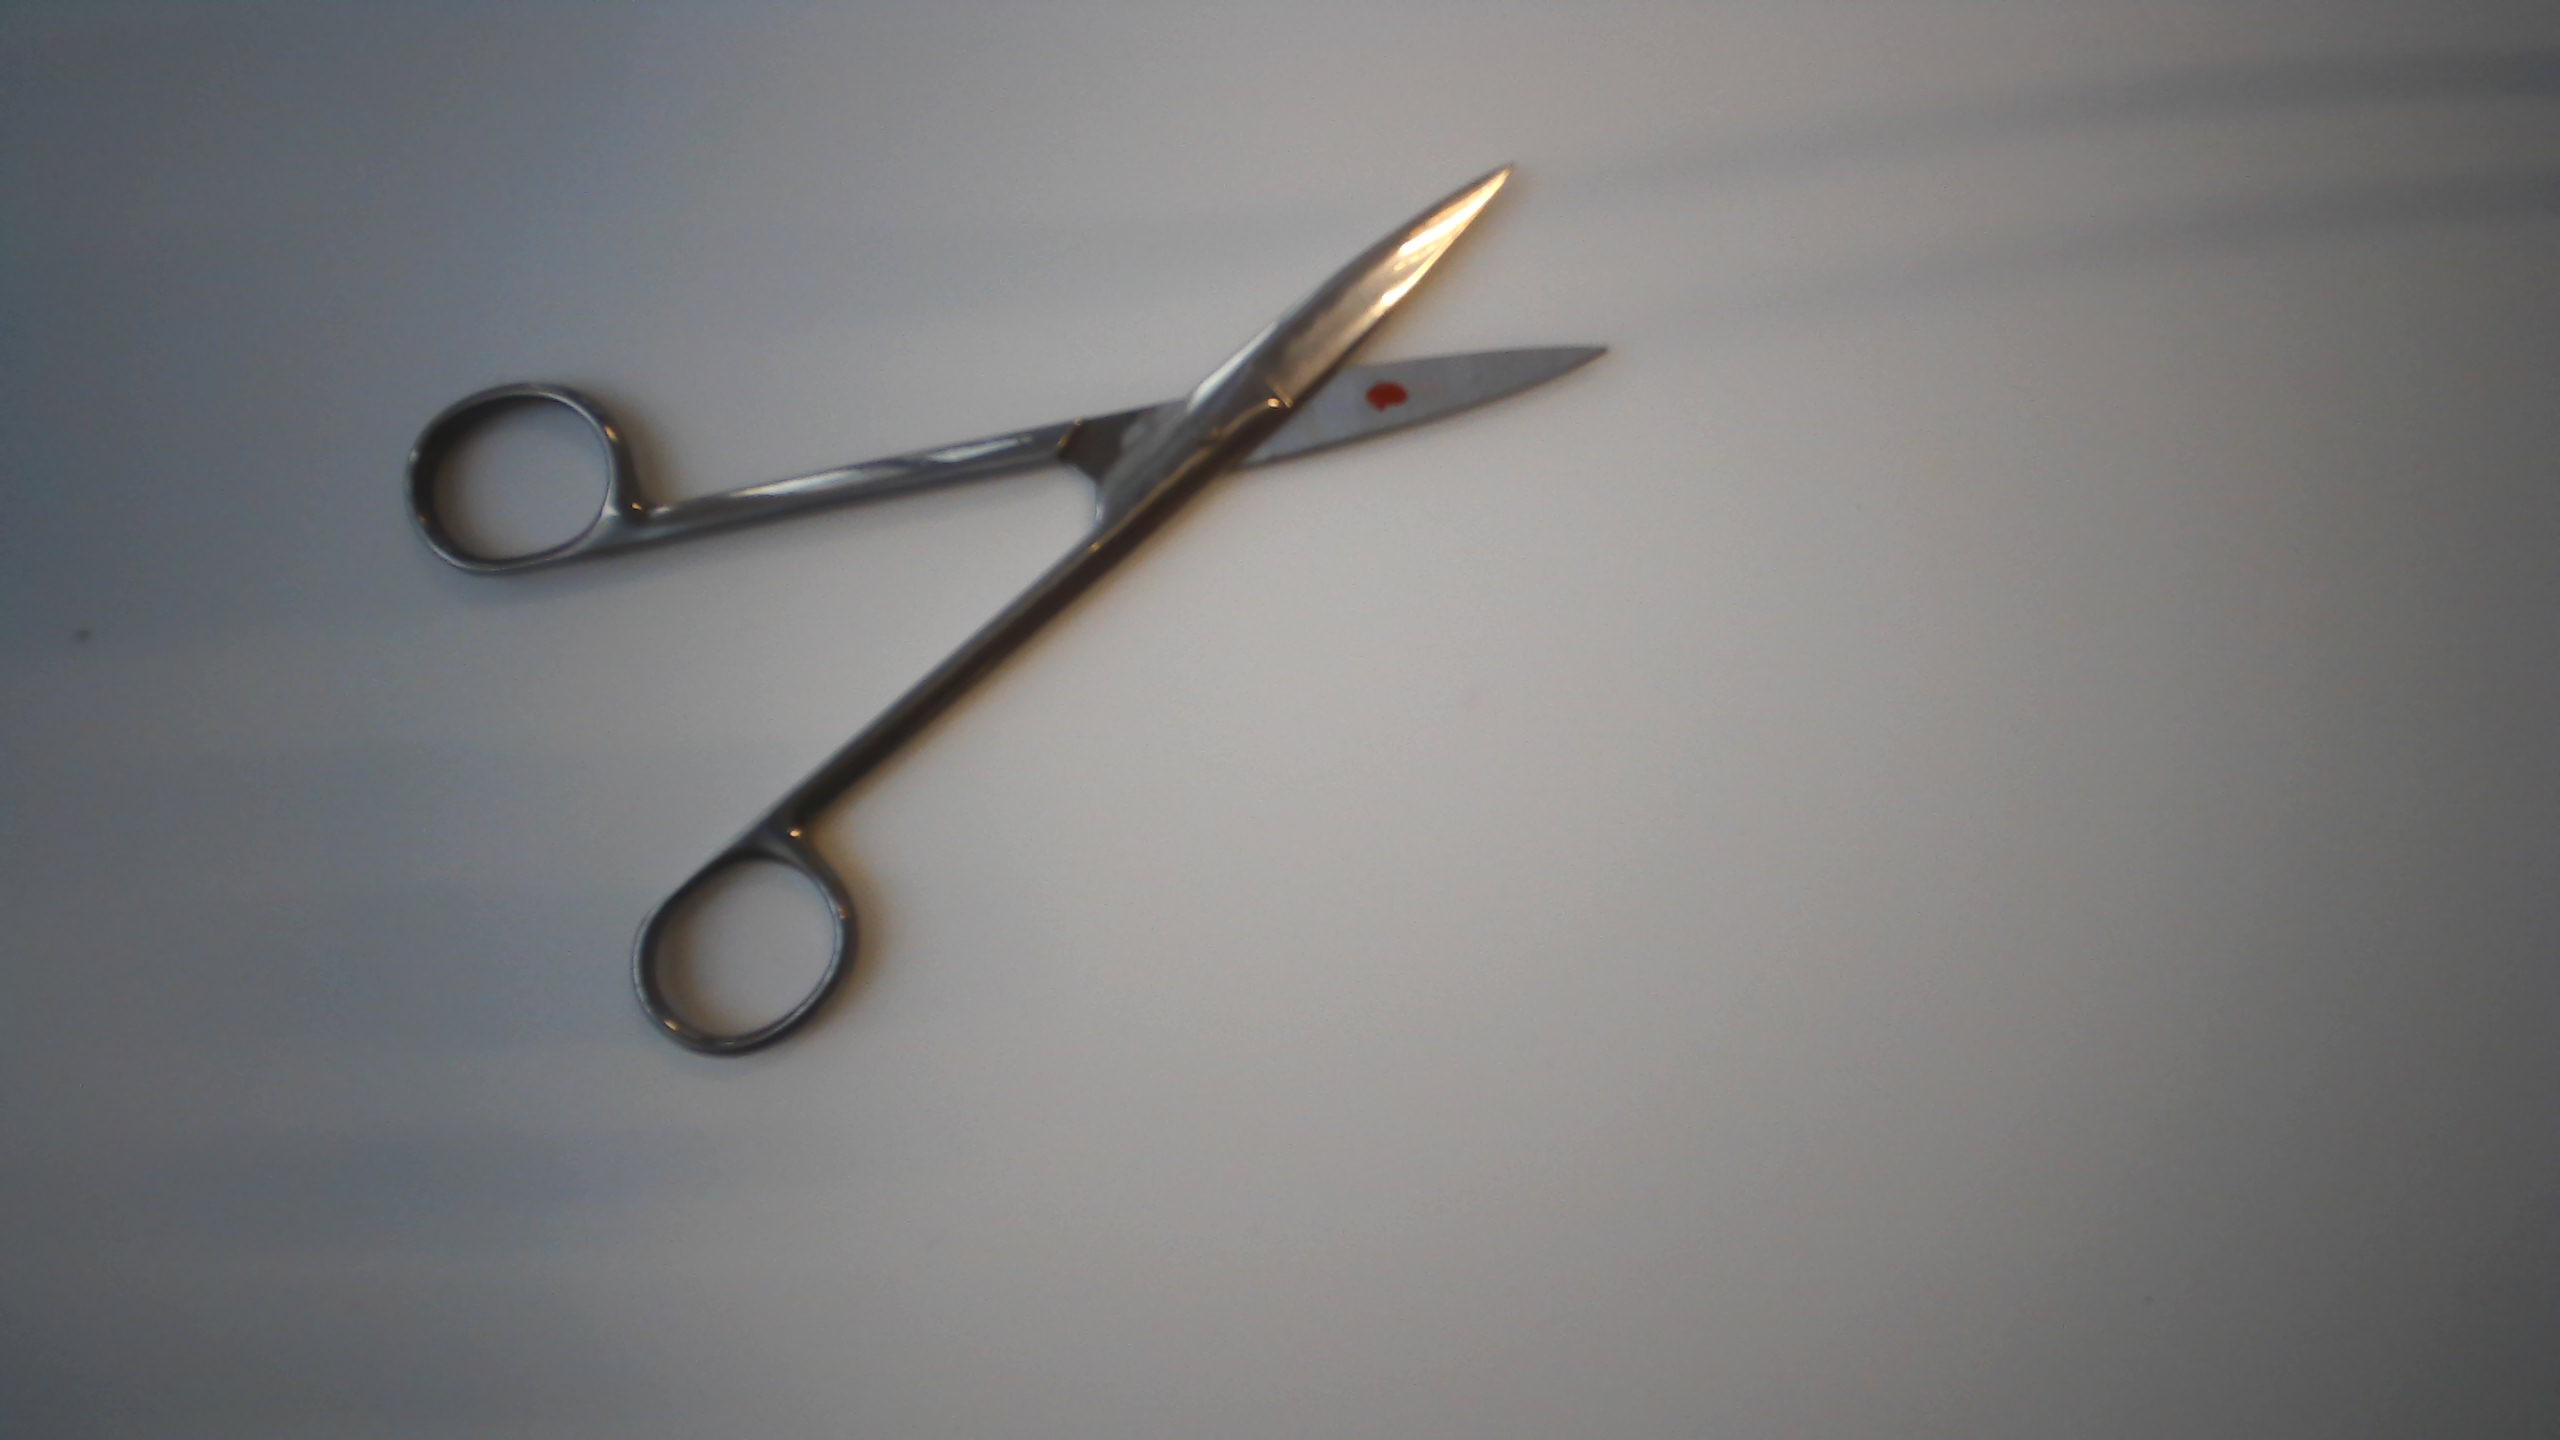Stain: (1361, 373, 1422, 427)
